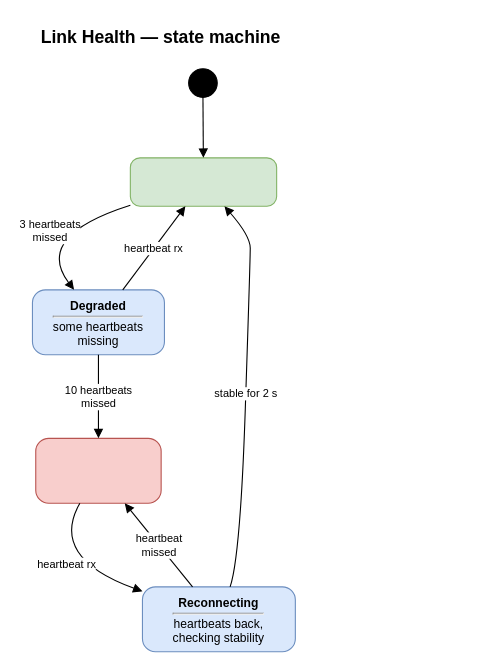
Image size: 498x671. Some labels were removed from this diagram. The centre of each missing label's shape, as x and y in pixels:
"Connected heartbeats arrive" goes at [203,181].
"Lost no heartbeats, use radar only" goes at [98,470].
